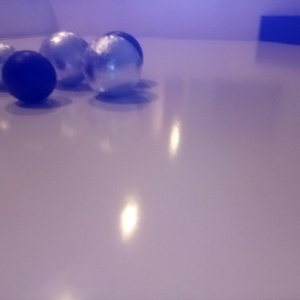alive_ball: (83, 35, 142, 97), (39, 31, 94, 88), (1, 43, 18, 90)
dead_ball: (2, 50, 58, 103), (94, 30, 144, 81)
